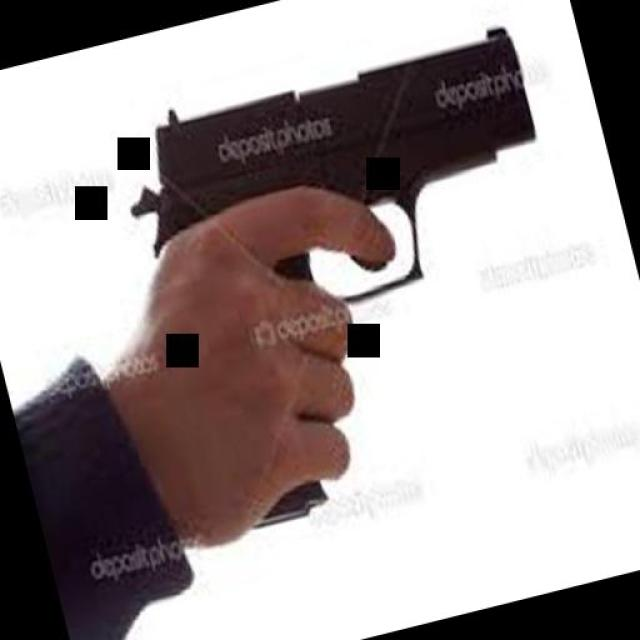gun: (99, 5, 624, 546)
